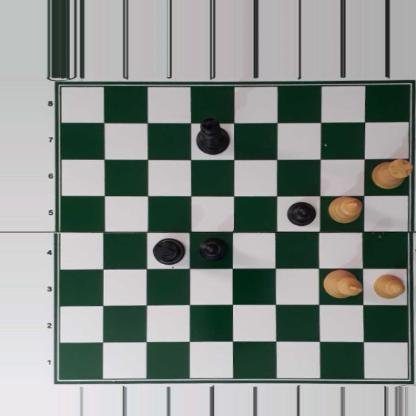black-king: (196, 116, 229, 155)
black-pawn: (287, 201, 318, 227), (198, 236, 229, 262)
black-rook: (152, 238, 187, 266)
white-bishop: (327, 195, 363, 224)
white-king: (321, 270, 362, 299)
white-pawn: (372, 274, 405, 299)
white-rook: (371, 159, 413, 189)
